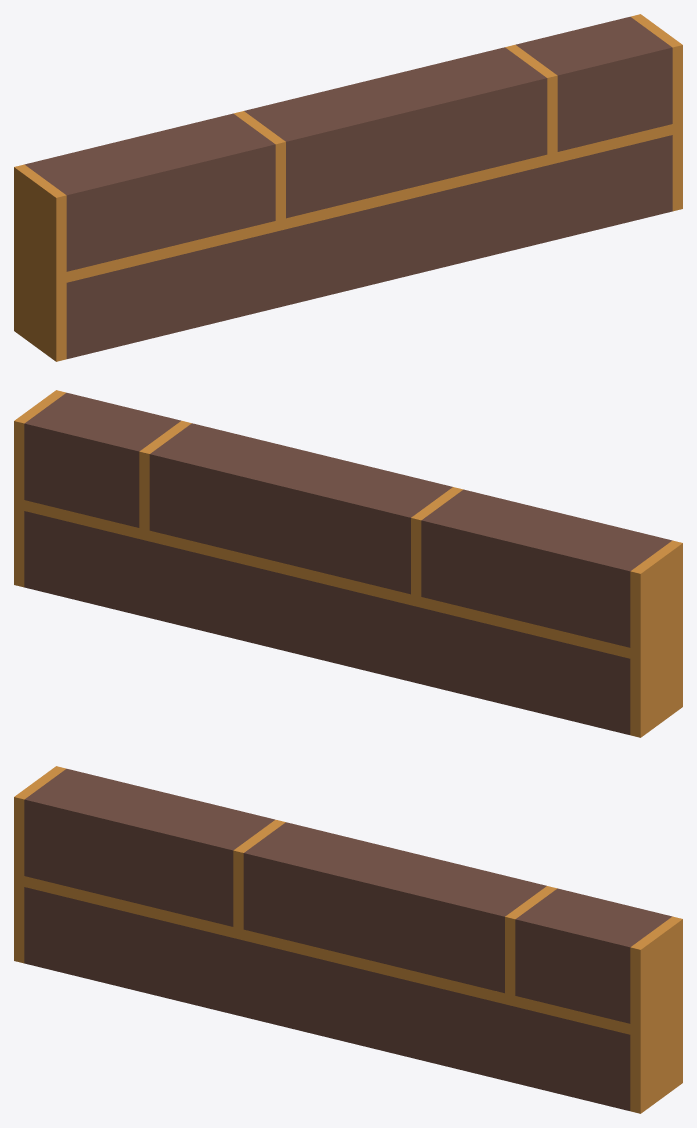
File: model-triangulated.obj
The picture shows the model from 3 angles, top to bottom: view 1: azimuth 30°, elevation 25°; view 2: azimuth 150°, elevation 25°; view 3: azimuth 330°, elevation 25°; orthographic projection.
Parts seen in each view (by area): view 1: group534291549, group830981041, group505231499, group1699511663, group1547201179, group1138848981, group1607612537, group1046170551, group914515526, group1903197938, group823642602, group1060422615 (+3 smaller); view 2: group534291549, group830981041, group505231499, group1699511663, group1547201179, group1138848981, group1607612537, group1046170551, group914515526, group1903197938, group823642602, group1060422615 (+3 smaller); view 3: group534291549, group830981041, group505231499, group1699511663, group1547201179, group1138848981, group2098756869, group1948337926, group914515526, group1903197938, group823642602, group1060422615 (+3 smaller).
Boxes of the visible parts, bbox=[...] form: group534291549: bbox=[244, 47, 547, 218]; group830981041: bbox=[24, 113, 275, 271]; group505231499: bbox=[286, 163, 557, 305]; group1699511663: bbox=[66, 229, 285, 358]; group1547201179: bbox=[516, 16, 672, 151]; group1138848981: bbox=[557, 135, 672, 239]; group1607612537: bbox=[14, 164, 66, 274]; group1046170551: bbox=[14, 255, 66, 361]; group914515526: bbox=[286, 149, 567, 229]; group1903197938: bbox=[14, 218, 285, 285]; group823642602: bbox=[568, 121, 682, 160]; group1060422615: bbox=[233, 111, 285, 220]; group534291549: bbox=[149, 423, 452, 594]; group830981041: bbox=[421, 489, 672, 647]; group505231499: bbox=[139, 539, 410, 681]; group1699511663: bbox=[411, 605, 630, 734]; group1547201179: bbox=[24, 392, 180, 527]; group1138848981: bbox=[24, 511, 139, 615]; group1607612537: bbox=[630, 540, 682, 650]; group1046170551: bbox=[630, 631, 682, 737]; group914515526: bbox=[139, 528, 410, 605]; group1903197938: bbox=[411, 594, 682, 661]; group823642602: bbox=[14, 497, 139, 538]; group1060422615: bbox=[411, 487, 463, 596]; group534291549: bbox=[243, 822, 546, 993]; group830981041: bbox=[24, 768, 274, 926]; group505231499: bbox=[243, 940, 515, 1082]; group1699511663: bbox=[24, 887, 243, 1016]; group1547201179: bbox=[515, 888, 672, 1023]; group1138848981: bbox=[515, 1007, 630, 1110]; group2098756869: bbox=[630, 916, 682, 1026]; group1948337926: bbox=[630, 1007, 682, 1113]; group914515526: bbox=[243, 929, 525, 1009]; group1903197938: bbox=[14, 873, 243, 940]; group823642602: bbox=[526, 996, 682, 1037]; group1060422615: bbox=[233, 819, 285, 929].
Bounding box in the file's own units: 0.6 × 0.15 × 0.07.
